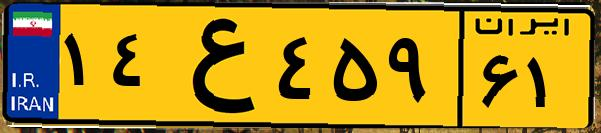1: (57, 26, 110, 100), (525, 38, 570, 115)
4: (270, 28, 330, 110), (110, 28, 158, 98)
5: (330, 28, 385, 110)
6: (475, 38, 525, 113)
9: (385, 28, 445, 110)
ع: (158, 12, 270, 120)
